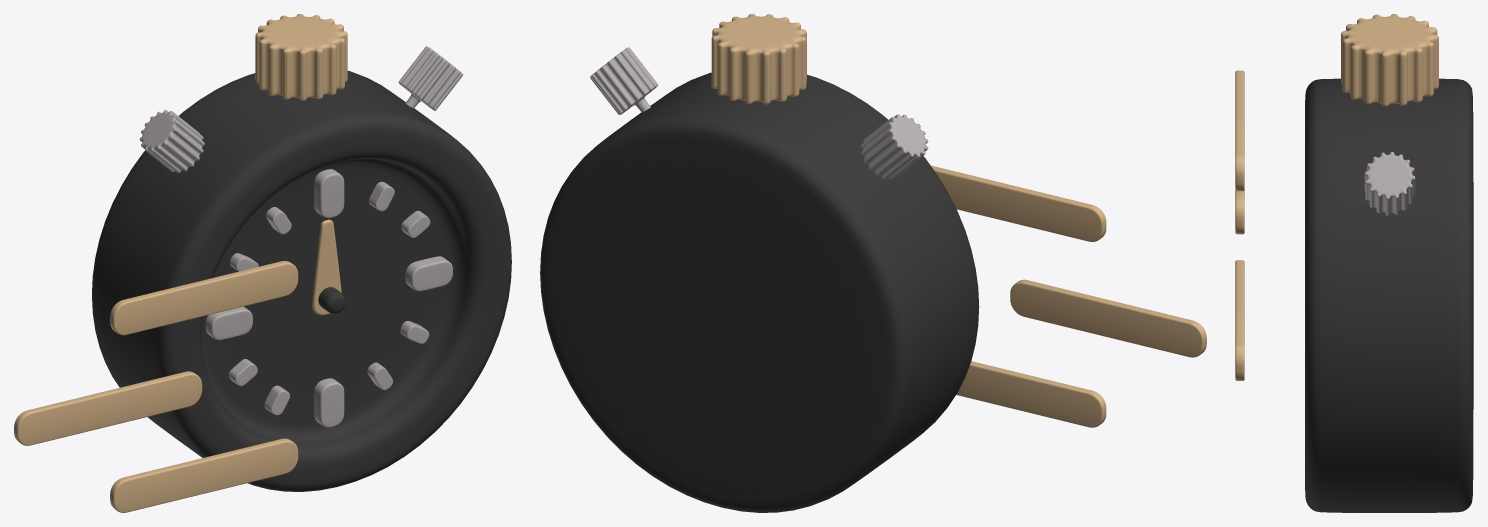
Rendered from fast-time-animated-3d-icon-33826034508.glb.
3 views of the same model, side by side, from view 1: azimuth 30°, elevation 25°; view 2: azimuth 150°, elevation 25°; view 3: azimuth 270°, elevation 25° (orthographic). The views are drawn at different scales.
Visible parts, largest first — view 1: Base.003, Button 1.003, Line 1, Line 3, Line 2, Numbers A.003, Button 2.001, Numbers B.003, Hour Pin.003, Core.003; view 2: Base.003, Button 1.003, Line 2, Line 1, Button 2.001, Line 3; view 3: Base.003, Button 1.003, Button 2.001, Line 1, Line 3, Line 2.
Boxes of the visible parts, x1=… form: Base.003: x1=92, y1=70, x2=511, y2=491; Button 1.003: x1=255, y1=14, x2=347, y2=100; Line 1: x1=110, y1=261, x2=298, y2=335; Line 3: x1=110, y1=438, x2=298, y2=512; Line 2: x1=14, y1=371, x2=202, y2=445; Numbers A.003: x1=205, y1=169, x2=452, y2=427; Button 2.001: x1=139, y1=46, x2=463, y2=173; Numbers B.003: x1=228, y1=181, x2=430, y2=415; Hour Pin.003: x1=312, y1=219, x2=341, y2=315; Core.003: x1=318, y1=287, x2=345, y2=313; Base.003: x1=540, y1=72, x2=979, y2=512; Button 1.003: x1=711, y1=14, x2=806, y2=104; Line 2: x1=1010, y1=279, x2=1206, y2=357; Line 1: x1=931, y1=165, x2=1106, y2=241; Button 2.001: x1=590, y1=47, x2=928, y2=180; Line 3: x1=956, y1=361, x2=1106, y2=427; Base.003: x1=1305, y1=78, x2=1473, y2=512; Button 1.003: x1=1341, y1=14, x2=1438, y2=106; Button 2.001: x1=1364, y1=152, x2=1415, y2=215; Line 1: x1=1235, y1=70, x2=1244, y2=191; Line 3: x1=1235, y1=260, x2=1244, y2=380; Line 2: x1=1235, y1=190, x2=1244, y2=234.
Size of the model in its own units: 3 by 2.32 by 1.09.
